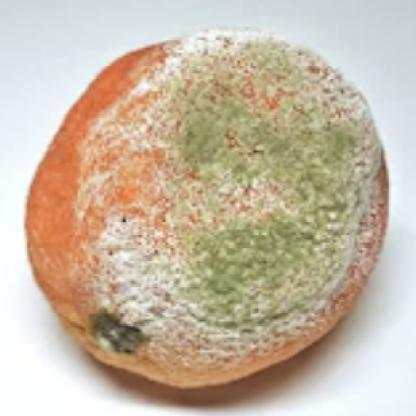rotten: (23, 31, 394, 394)
